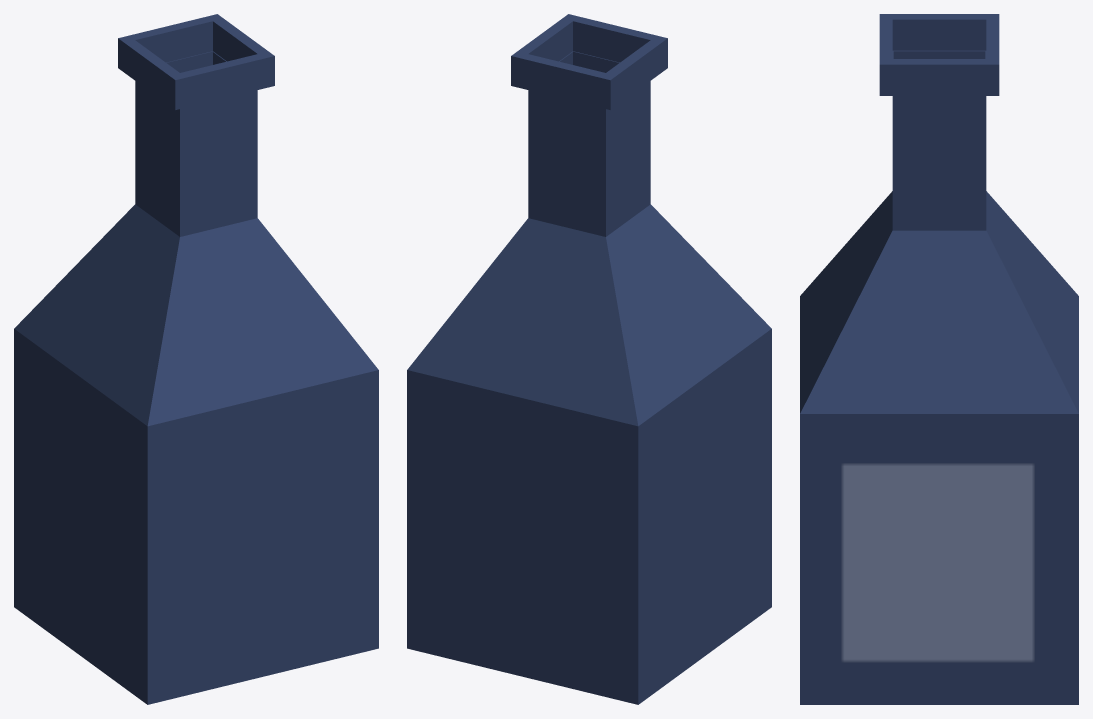
File: Bottle3.FBX
3 views of the same model, side by side, from view 1: azimuth 30°, elevation 25°; view 2: azimuth 150°, elevation 25°; view 3: azimuth 270°, elevation 25° (orthographic). The views are drawn at different scales.
Parts seen in each view (by area): view 1: Box004; view 2: Box004; view 3: Box004.
Part boxes in pixels (x1,y1,x2,y2): Box004: (14, 14, 378, 704); Box004: (407, 14, 771, 704); Box004: (800, 14, 1078, 704).
Bounding box in the file's own units: 7.05 × 16.93 × 7.05.
